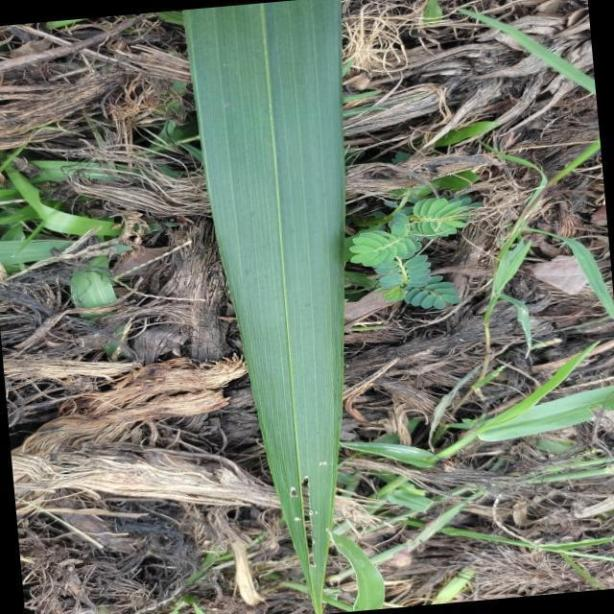Boron: (182, 0, 342, 614)
